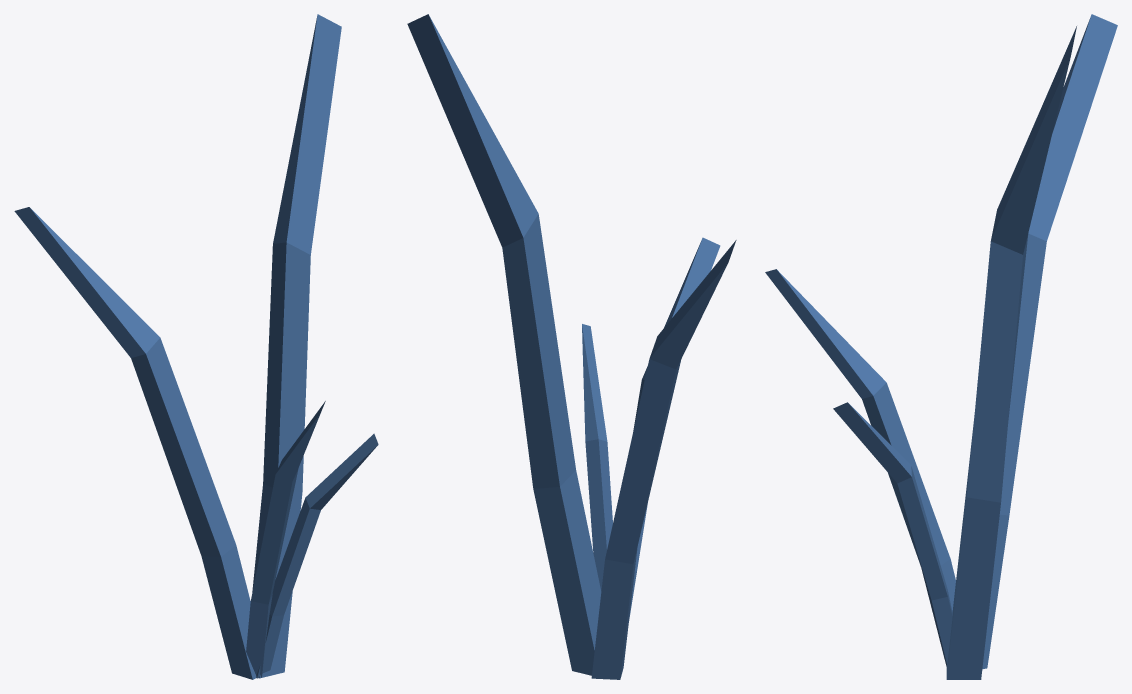
The model's file is Grass_2_Blue.fbx.
3 views of the same model, side by side, from view 1: azimuth 30°, elevation 25°; view 2: azimuth 150°, elevation 25°; view 3: azimuth 270°, elevation 25° (orthographic). The views are drawn at different scales.
Visible parts, largest first — view 1: Grass_2_Blue; view 2: Grass_2_Blue; view 3: Grass_2_Blue.
Part boxes in pixels (<box>): Grass_2_Blue: <box>14,14,378,679</box>; Grass_2_Blue: <box>407,14,736,679</box>; Grass_2_Blue: <box>765,14,1117,679</box>.
Size of the model in its own units: 9.74 by 18.04 by 8.18.
